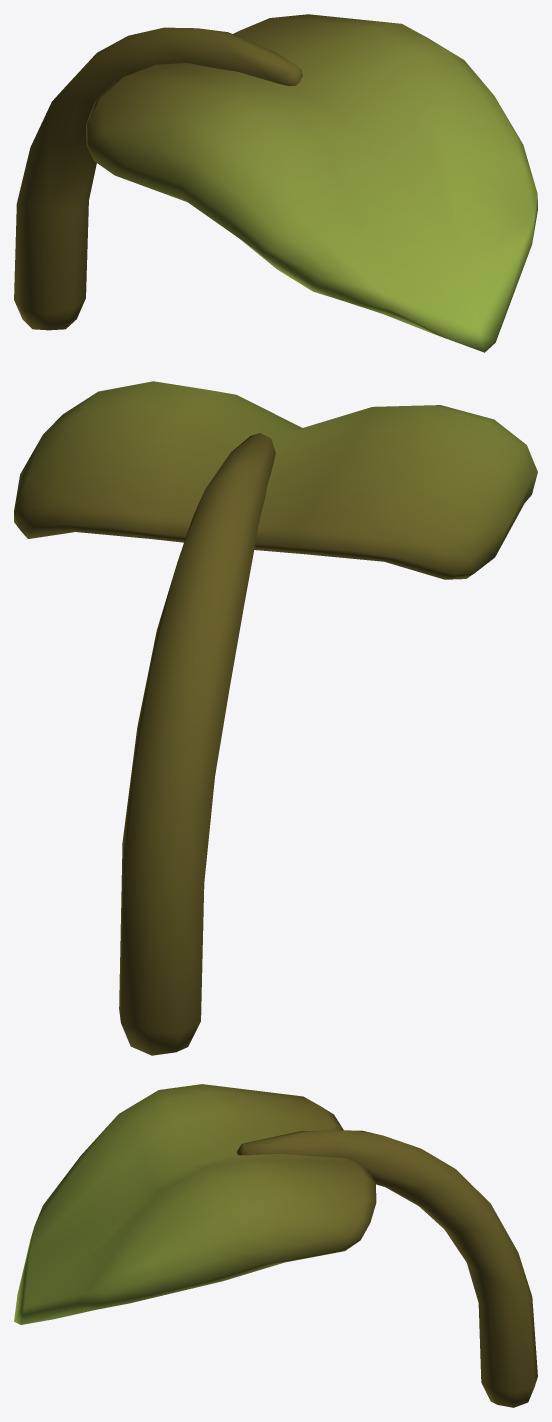
File: bigLeaf.fbx
The picture shows the model from 3 angles, top to bottom: view 1: azimuth 30°, elevation 25°; view 2: azimuth 150°, elevation 25°; view 3: azimuth 270°, elevation 25°; orthographic projection. The views are drawn at different scales.
Parts seen in each view (by area): view 1: Plane.005; view 2: Plane.005; view 3: Plane.005.
Part boxes in pixels (x1,y1,x2,y2): Plane.005: (14,14,537,352); Plane.005: (14,381,537,1055); Plane.005: (14,1084,537,1407).
Size of the model in its own units: 1365 by 1337 by 2083.
